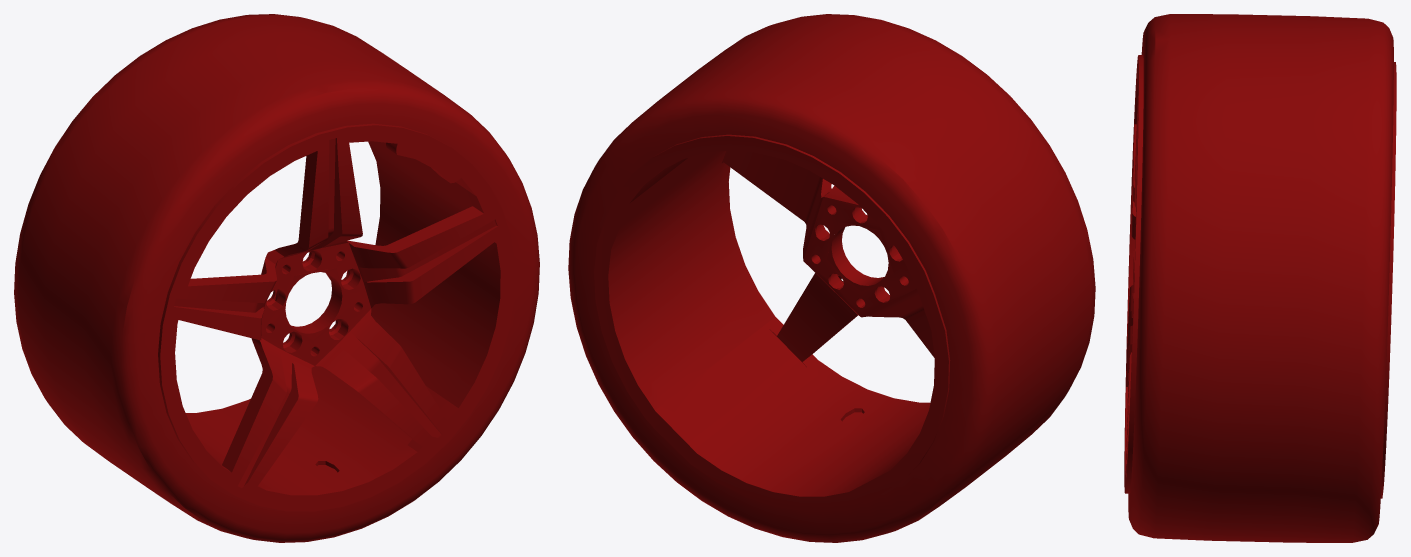
Rendered from LlantaDelanteraI_ANC.obj.
The picture shows the model from 3 angles, left to right: view 1: azimuth 30°, elevation 25°; view 2: azimuth 150°, elevation 25°; view 3: azimuth 270°, elevation 25°; orthographic projection. The views are drawn at different scales.
Parts seen in each view (by area): view 1: cylinder13; view 2: cylinder13; view 3: cylinder13.
Boxes of the visible parts, left/top/right/bottom form: cylinder13: left=14, top=14, right=539, bottom=542; cylinder13: left=568, top=14, right=1095, bottom=542; cylinder13: left=1124, top=14, right=1396, bottom=542.
Size of the model in its own units: 3.35 by 3.36 by 1.73.
